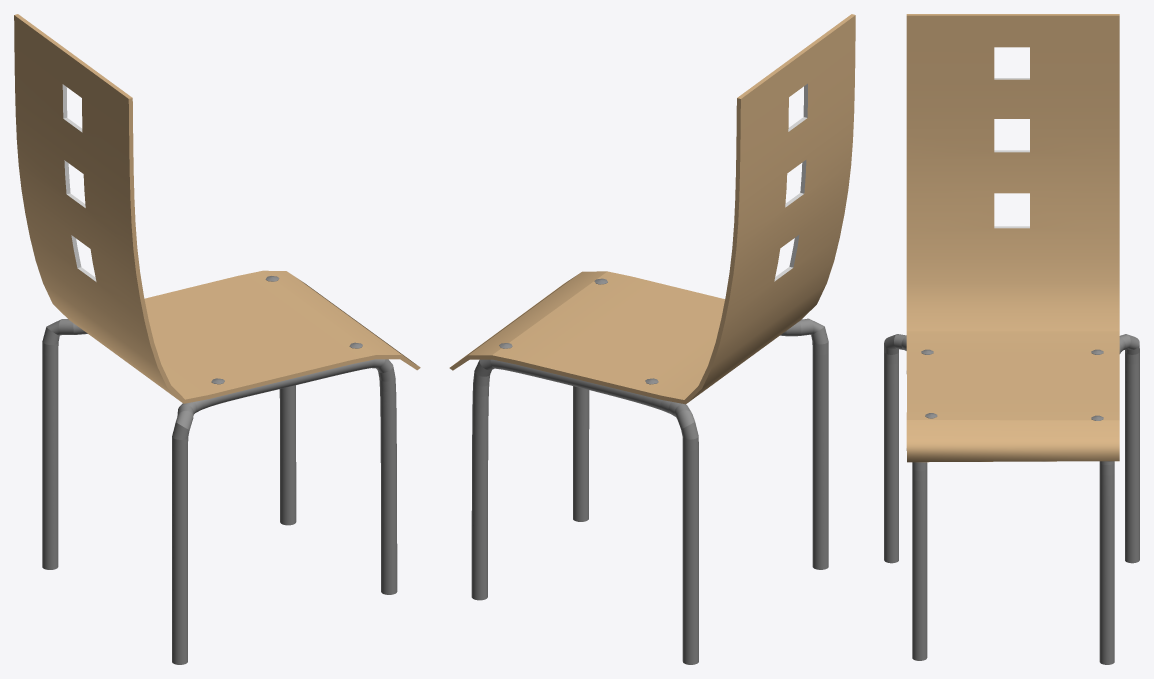
The model's file is chaise_vfinal.fbx.
3 views of the same model, side by side, from view 1: azimuth 30°, elevation 25°; view 2: azimuth 150°, elevation 25°; view 3: azimuth 270°, elevation 25° (orthographic). The views are drawn at different scales.
Visible parts, largest first — view 1: Cube, Cylinder.002, Cylinder; view 2: Cube, Cylinder, Cylinder.002; view 3: Cube, Cylinder, Cylinder.002.
Boxes of the visible parts, x1,y1,x2,y2 form: Cube: [14, 14, 420, 403]; Cylinder.002: [172, 359, 397, 664]; Cylinder: [42, 319, 296, 569]; Cube: [449, 14, 855, 404]; Cylinder: [471, 359, 698, 664]; Cylinder.002: [573, 318, 828, 569]; Cube: [906, 14, 1119, 462]; Cylinder: [1099, 334, 1139, 664]; Cylinder.002: [884, 334, 927, 660].
Bounding box in the file's own units: 364 × 675 × 297.
